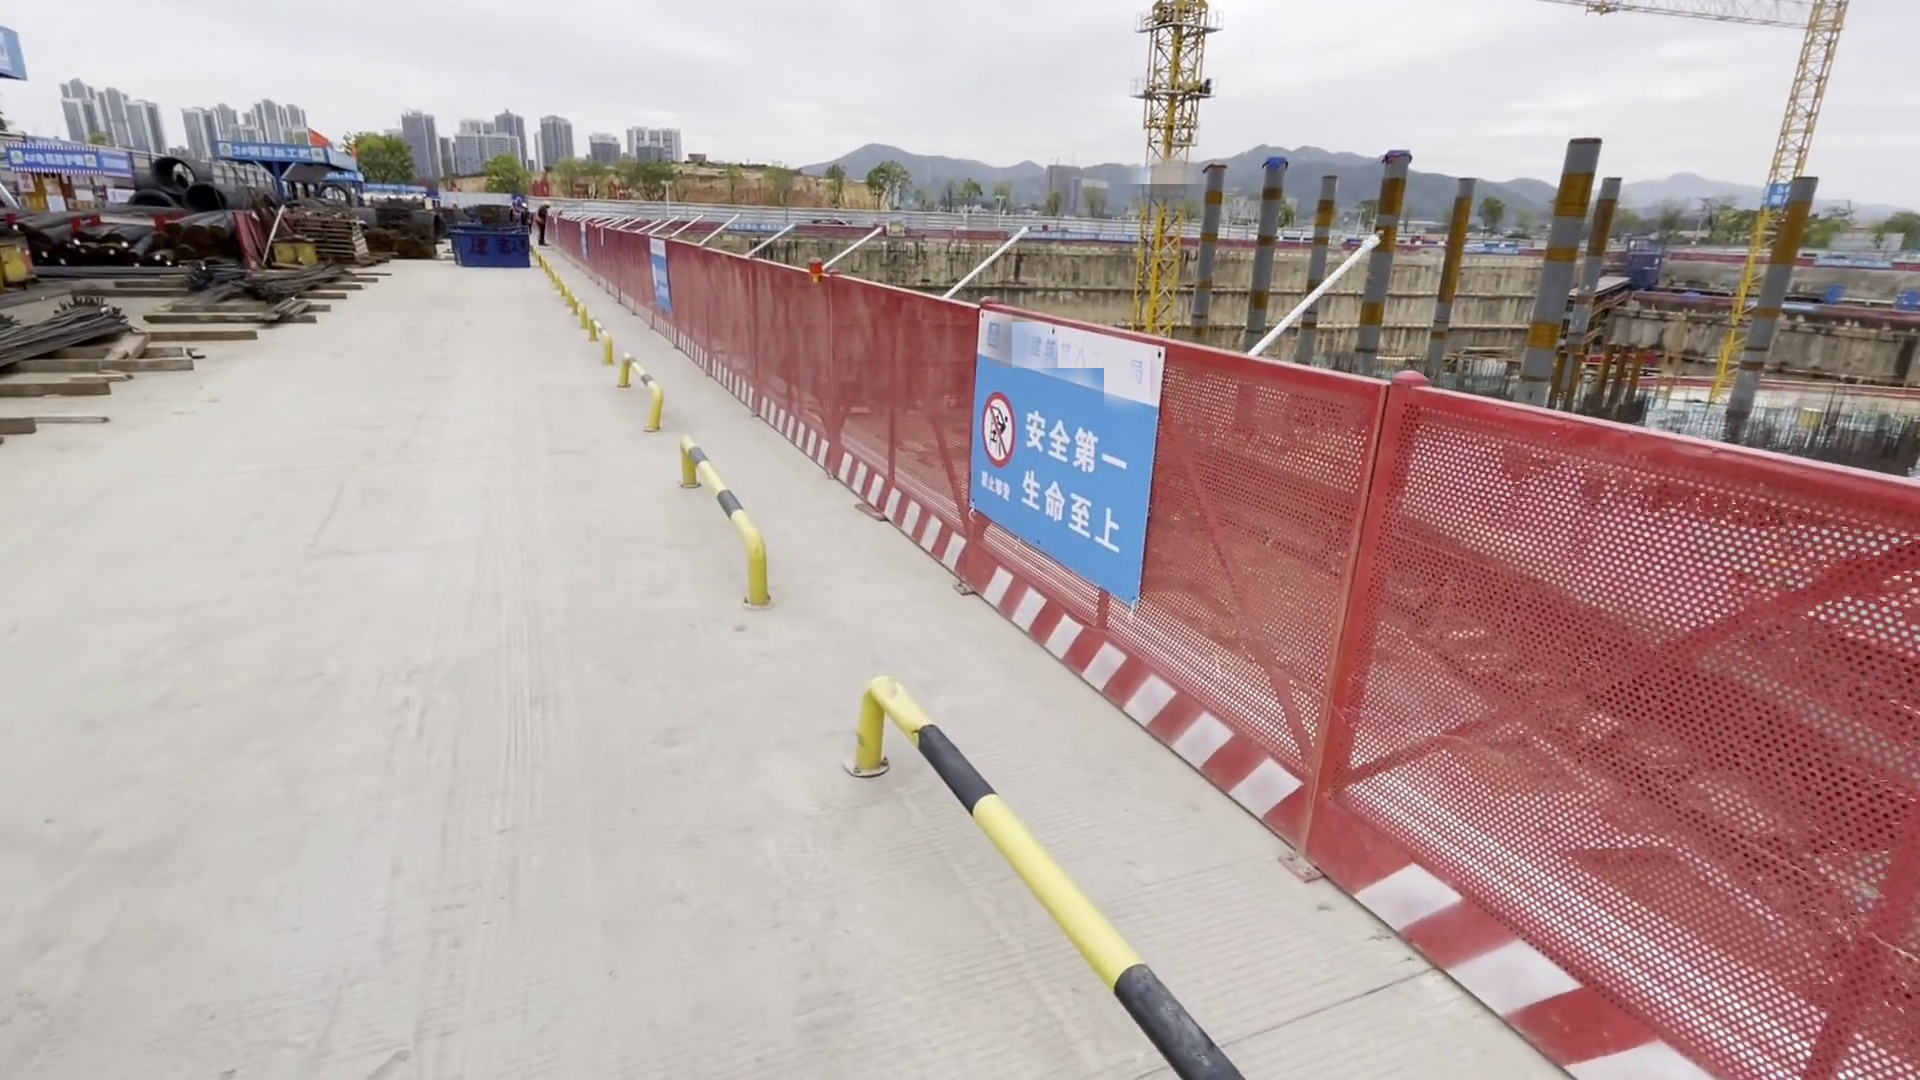fence: (1114, 359, 1920, 1079), (558, 205, 974, 576)
hopper: (454, 229, 530, 271)
person: (532, 201, 553, 250)
rebar: (1, 211, 239, 265), (182, 257, 345, 312), (1, 294, 129, 363)
slogan: (959, 312, 1151, 575)
